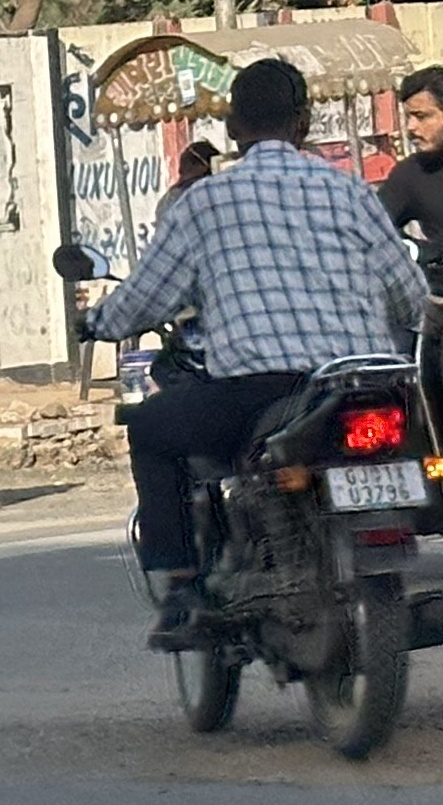BikeWithRider: (43, 44, 443, 770)
NoHelmet: (213, 49, 321, 163)
